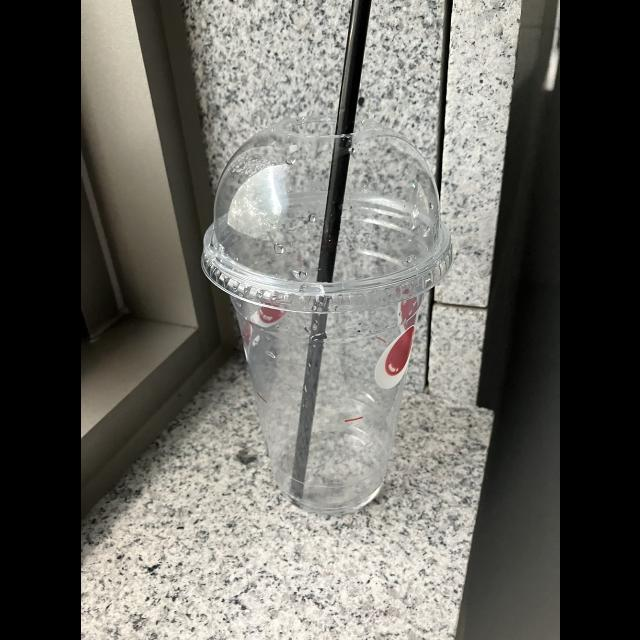plastic_cup: (198, 124, 454, 516)
plastic_cup_lid: (200, 118, 458, 310)
straw: (288, 1, 370, 490)
